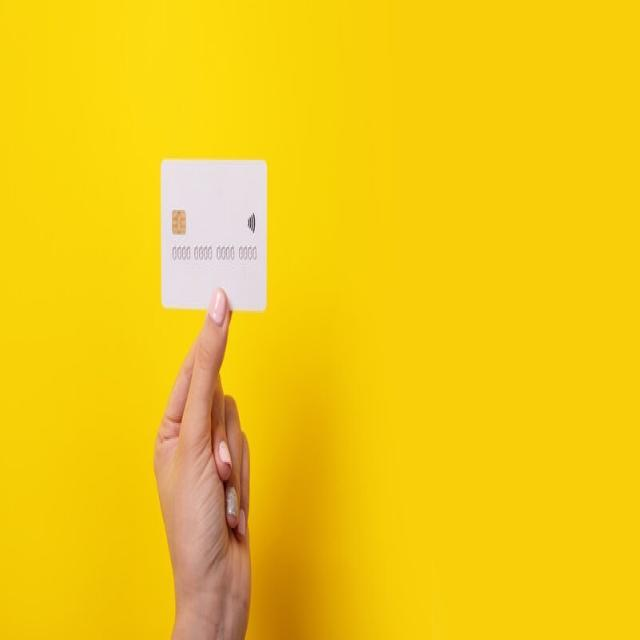payment_card: (159, 157, 268, 313)
